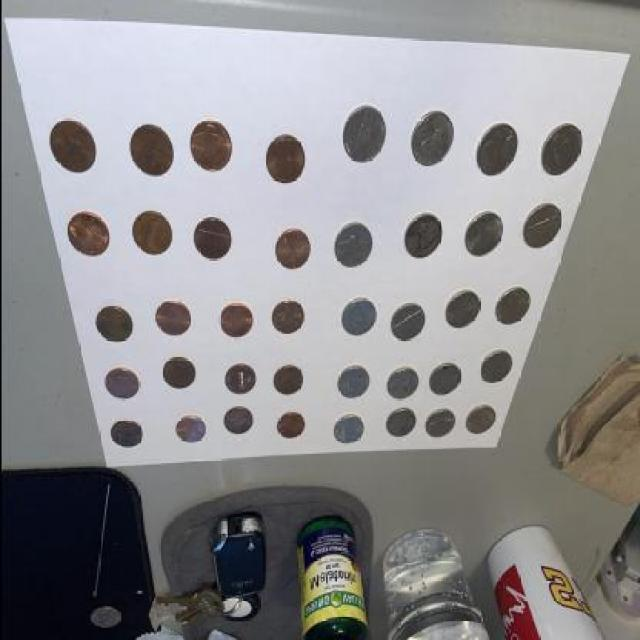Nickel: (340, 105, 389, 166), (410, 110, 456, 170), (472, 123, 520, 180), (538, 122, 584, 178), (462, 211, 508, 260), (331, 220, 374, 272), (402, 210, 444, 258), (338, 297, 378, 340), (386, 302, 426, 344), (442, 289, 482, 329), (428, 362, 462, 398), (330, 414, 364, 448), (336, 366, 370, 400), (383, 410, 417, 444), (384, 368, 418, 400)
Penny: (48, 116, 97, 176), (262, 128, 308, 188), (128, 121, 174, 180), (186, 118, 232, 176), (62, 206, 109, 262), (130, 208, 176, 260), (190, 216, 232, 264), (91, 306, 134, 343), (274, 228, 312, 269), (98, 368, 142, 402), (152, 300, 192, 337), (268, 300, 308, 337), (106, 418, 146, 451), (218, 302, 254, 338), (270, 363, 306, 397), (222, 363, 256, 397), (274, 409, 308, 443), (222, 404, 256, 436), (174, 415, 206, 448), (162, 358, 196, 389)
